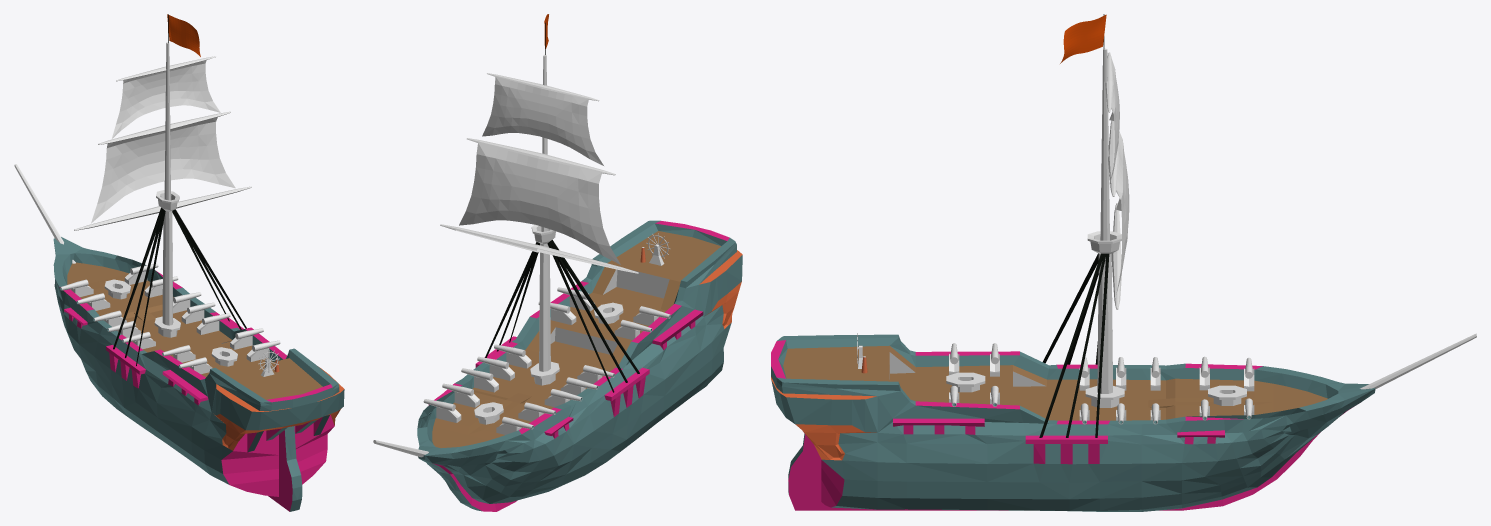
Rendered from war ship (1).fbx.
The picture shows the model from 3 angles, left to right: view 1: azimuth 30°, elevation 25°; view 2: azimuth 150°, elevation 25°; view 3: azimuth 270°, elevation 25°; orthographic projection. The views are drawn at different scales.
Parts seen in each view (by area): view 1: AmericanWarShip.lwo, AmericanWarShip.lwo.003, AmericanWarShip.lwo.002, AmericanWarShip.lwo.001; view 2: AmericanWarShip.lwo, AmericanWarShip.lwo.003, AmericanWarShip.lwo.002; view 3: AmericanWarShip.lwo, AmericanWarShip.lwo.003, AmericanWarShip.lwo.001, AmericanWarShip.lwo.002.
Boxes of the visible parts, <box> form: AmericanWarShip.lwo: <box>14,14,344,511</box>; AmericanWarShip.lwo.003: <box>91,111,235,223</box>; AmericanWarShip.lwo.002: <box>112,56,220,138</box>; AmericanWarShip.lwo.001: <box>167,14,200,56</box>; AmericanWarShip.lwo: <box>373,22,742,511</box>; AmericanWarShip.lwo.003: <box>459,138,620,264</box>; AmericanWarShip.lwo.002: <box>482,73,603,165</box>; AmericanWarShip.lwo: <box>771,14,1476,511</box>; AmericanWarShip.lwo.003: <box>1108,120,1129,294</box>; AmericanWarShip.lwo.001: <box>1060,14,1106,63</box>; AmericanWarShip.lwo.002: <box>1105,52,1119,183</box>.
Bounding box in the file's own units: 2359 × 5144 × 6663.
